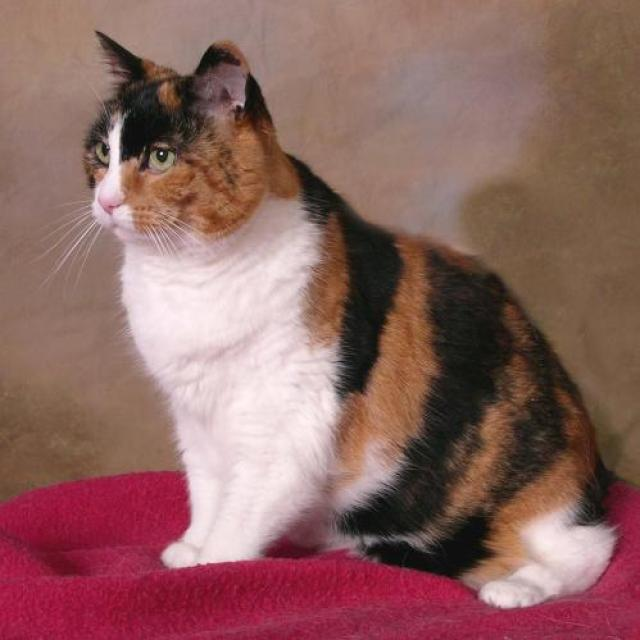Cats: (29, 28, 621, 609)
